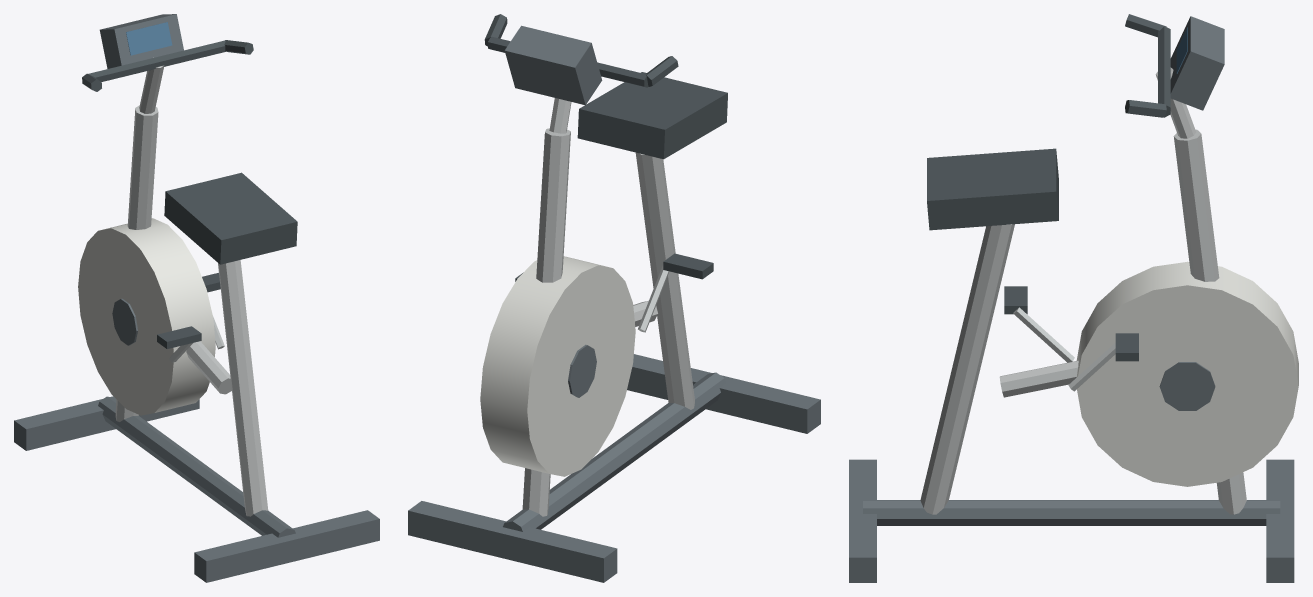
File: exercise_bike.fbx
The picture shows the model from 3 angles, left to right: view 1: azimuth 30°, elevation 25°; view 2: azimuth 150°, elevation 25°; view 3: azimuth 270°, elevation 25°; orthographic projection. The views are drawn at different scales.
Visible parts, largest first — view 1: exercise_bike; view 2: exercise_bike; view 3: exercise_bike.
Boxes of the visible parts, left/top/right/bottom form: exercise_bike: left=14, top=14, right=379, bottom=582; exercise_bike: left=408, top=14, right=820, bottom=582; exercise_bike: left=849, top=14, right=1298, bottom=582.
Bounding box in the file's own units: 50 × 119 × 97.
